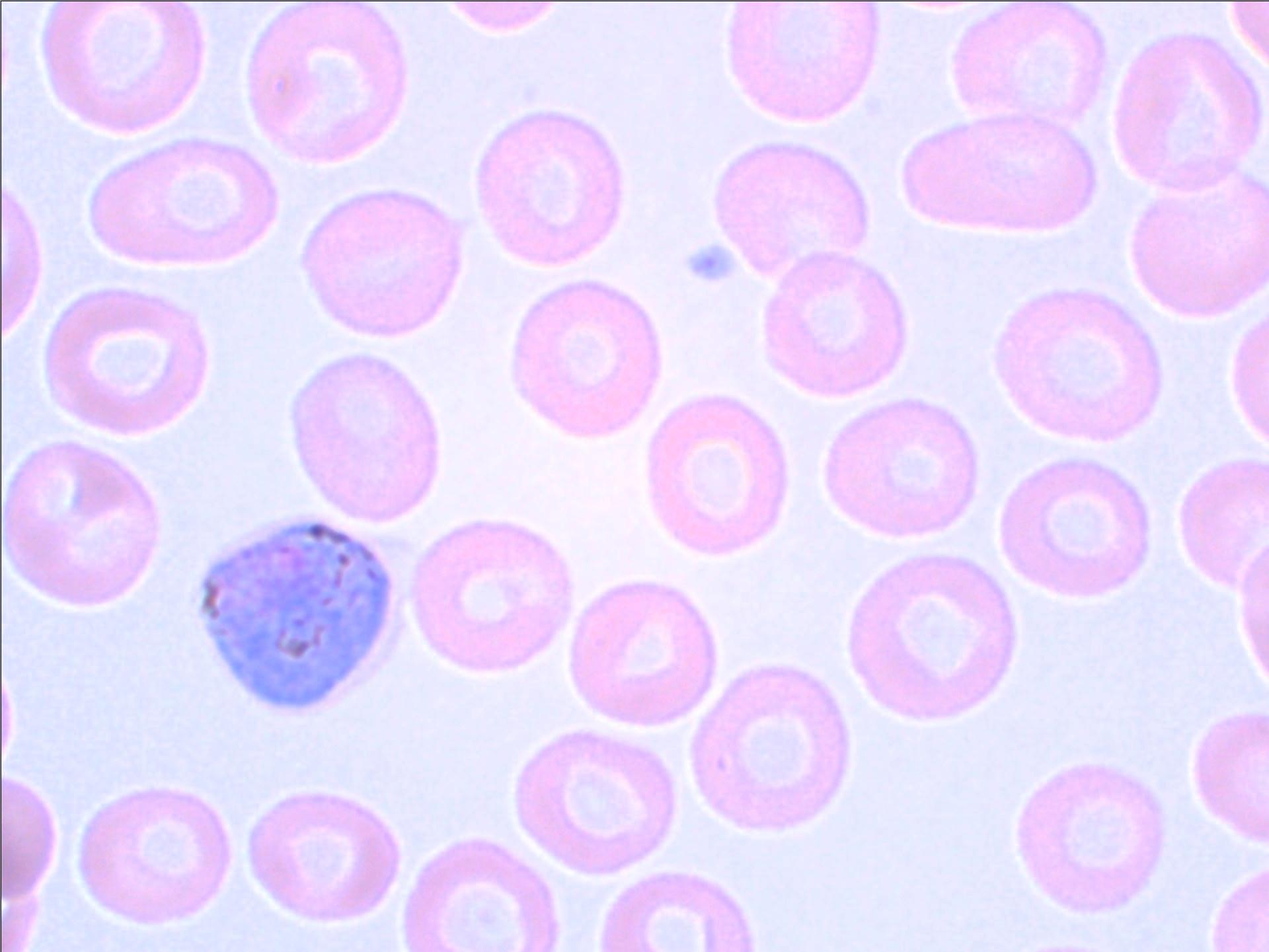Infected: (192, 518, 395, 710)
Uninfected: (848, 549, 1019, 726), (692, 666, 850, 830), (247, 4, 407, 164), (5, 442, 159, 608), (46, 285, 210, 438), (412, 517, 570, 673), (997, 288, 1159, 440), (291, 355, 439, 521), (93, 139, 276, 271), (511, 280, 661, 441), (643, 391, 786, 557), (903, 115, 1095, 237), (303, 190, 461, 338), (517, 730, 674, 876), (1018, 756, 1169, 905), (1114, 32, 1259, 187), (44, 1, 206, 137), (477, 111, 621, 263), (824, 399, 978, 538), (1001, 458, 1151, 599), (78, 786, 230, 925), (571, 581, 714, 726), (247, 791, 401, 924), (763, 252, 905, 396), (716, 143, 868, 275), (1132, 176, 1268, 318), (953, 5, 1105, 124), (731, 5, 881, 124), (403, 840, 557, 951)
